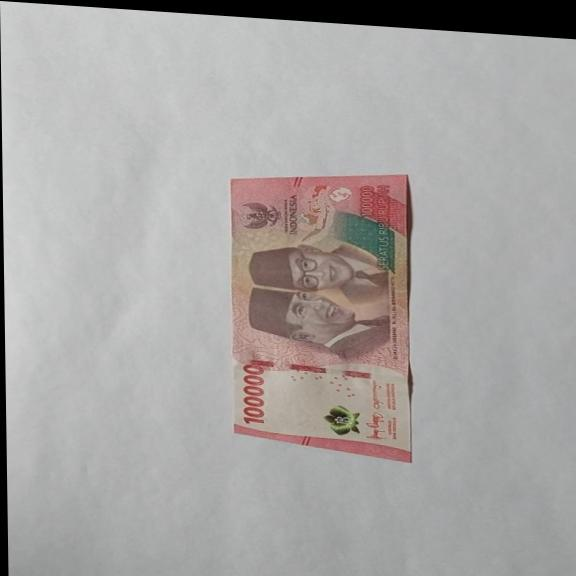Kertas: (225, 160, 415, 463), (239, 362, 268, 425)
